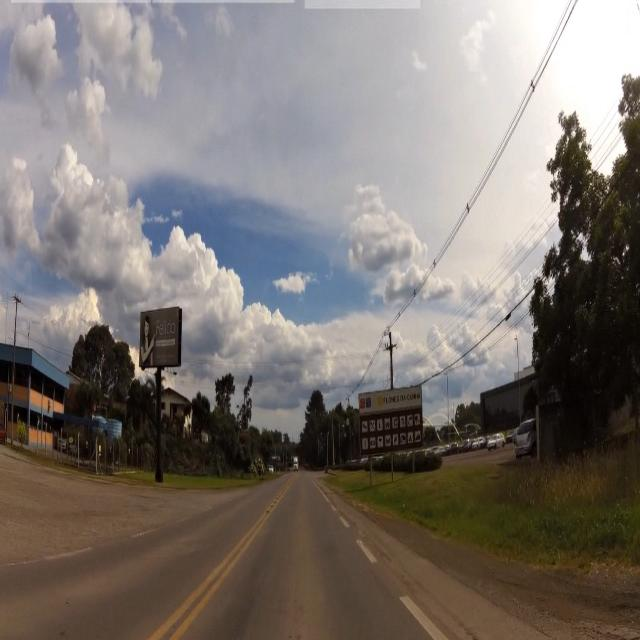TUR-4: (359, 410, 427, 454)
